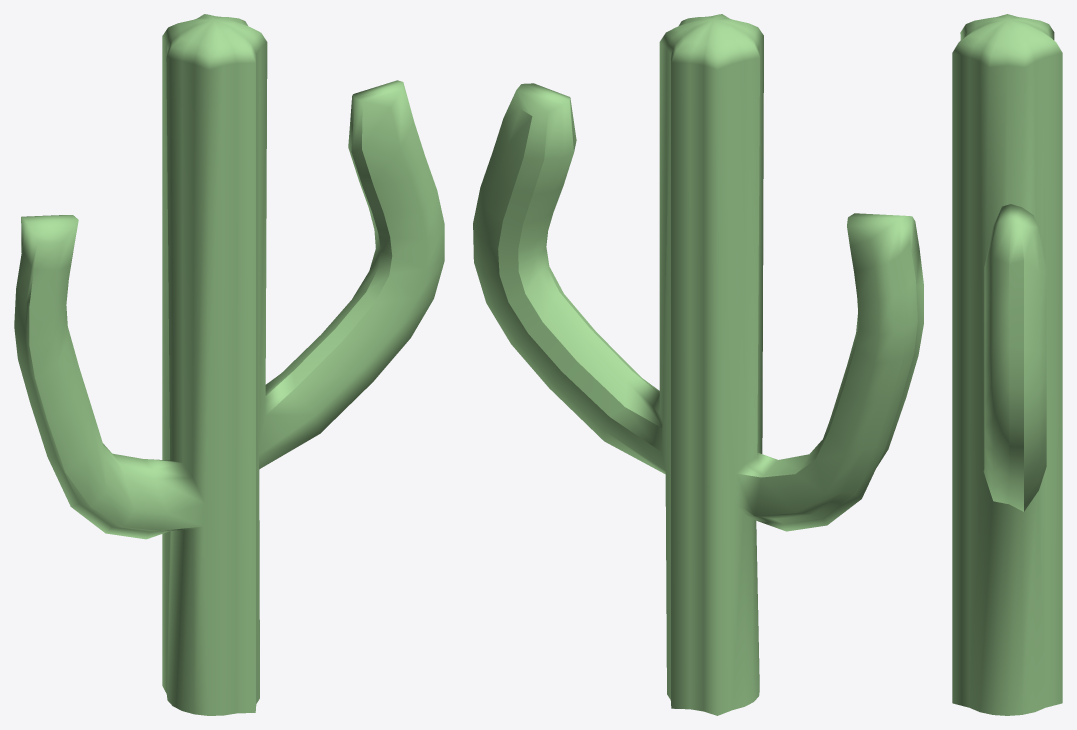
The model's file is Cactus_Basic.fbx.
3 renders of one model, left to right at view 1: azimuth 30°, elevation 25°; view 2: azimuth 150°, elevation 25°; view 3: azimuth 270°, elevation 25°, orthographic.
Parts seen in each view (by area): view 1: pCylinder1; view 2: pCylinder1; view 3: pCylinder1.
Part boxes in pixels (x1,y1,x2,y2): pCylinder1: [14, 14, 444, 715]; pCylinder1: [473, 14, 923, 715]; pCylinder1: [952, 14, 1062, 715].
Size of the model in its own units: 8.51 by 12.61 by 1.86.
